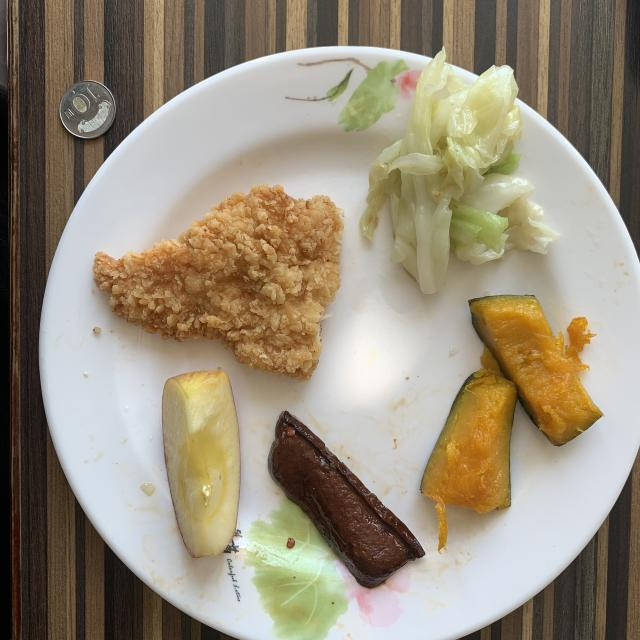apple -sliced-: (162, 370, 240, 558)
cabbage: (360, 50, 559, 294)
coin: (60, 80, 115, 139)
firm tofu: (268, 411, 425, 588)
fried chicken cutlet: (94, 184, 344, 381)
pumpkin: (421, 295, 602, 550)
